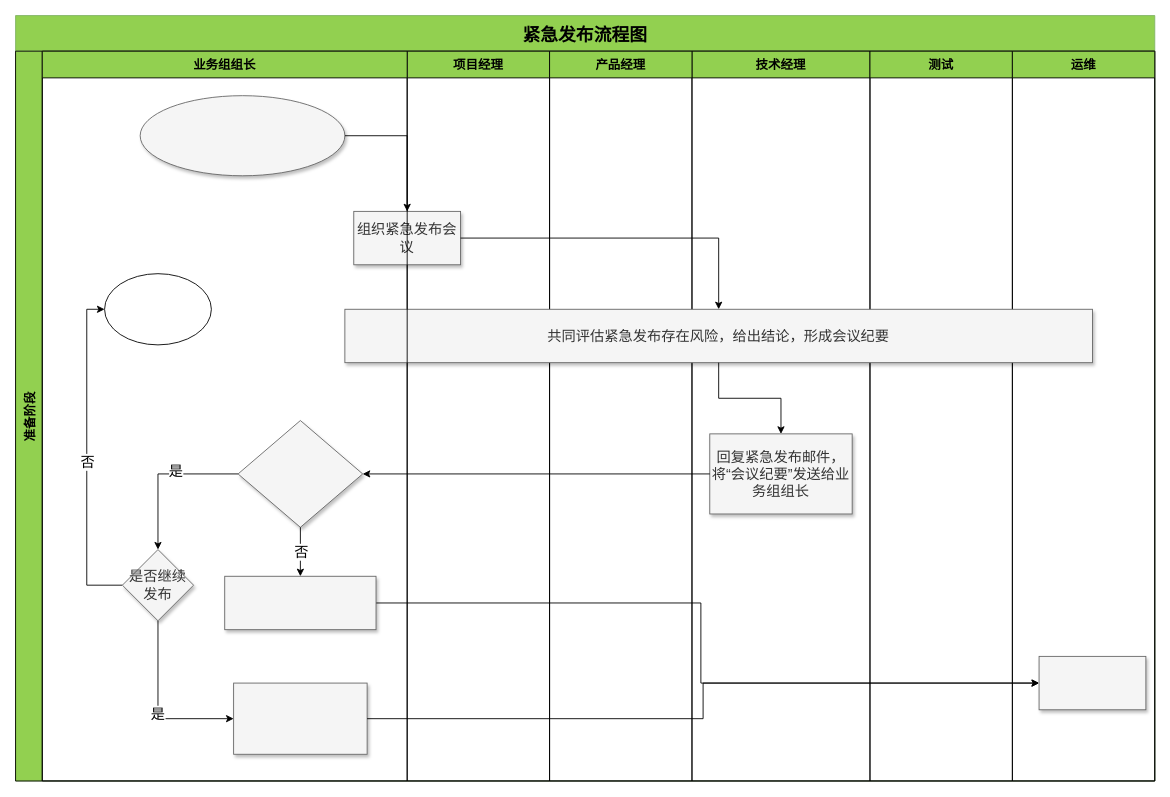
Image size: 1170x797. Some labels were removed from this diagram. The shapes that lost their labels are listed below. From the top down, each one's centre as x and y in pixels, then its label:
At point (243, 136): "发送紧急发布邮件到相关负责人（包含紧急发布内容，原因等）".
At point (157, 309): "结束".
At point (301, 475): "是否存在风险？".
At point (300, 604): "回复邮件，发送给运维，抄送技术、产品、测试".
At point (1093, 684): "升级".
At point (300, 720): "回复邮件，发送给运维，抄送代总，雪松总等（包含坚持发布原因等）".
